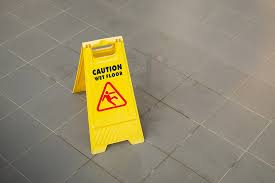wet caution sign: (68, 41, 144, 146)
